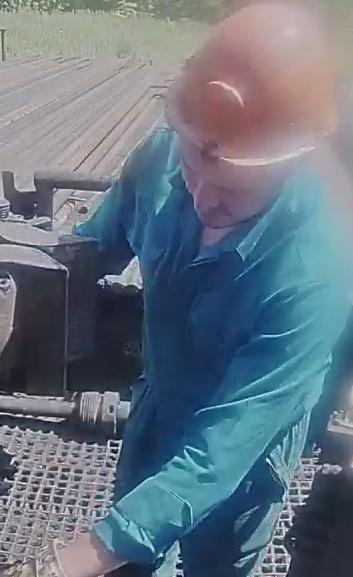gloves: (0, 540, 71, 577)
helmet: (160, 3, 353, 171)
vest: (129, 123, 353, 468)
